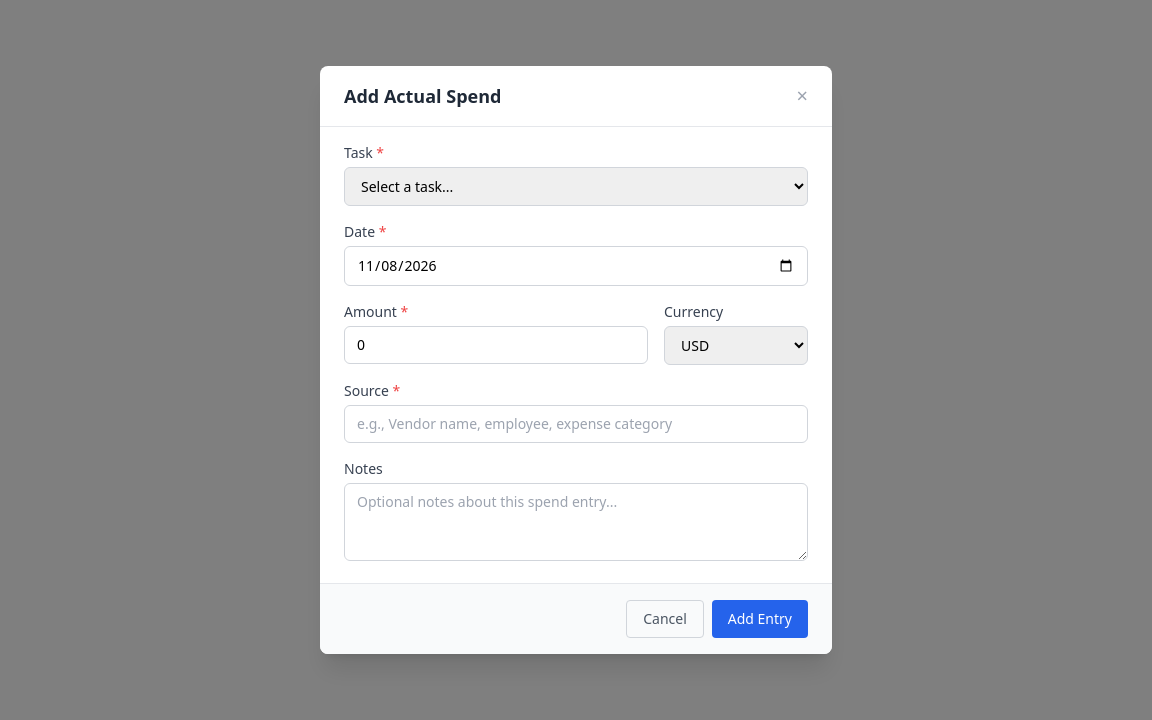
ActualsEditorModal › validation › shows error for empty source
Select "Design Phase" in the dropdown labelled "Task *" at (576, 186), box [344,167,808,206]
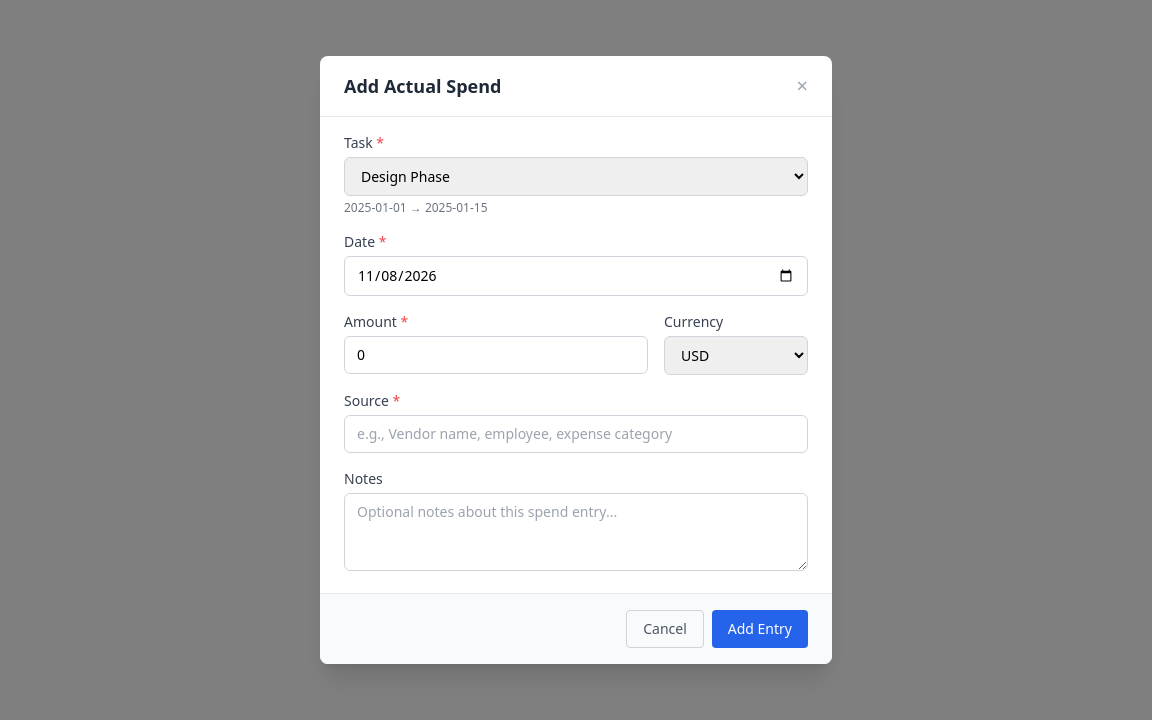
Type "2025-01-10" into the date field labelled "Date *" at (576, 276), box [344,256,808,296]
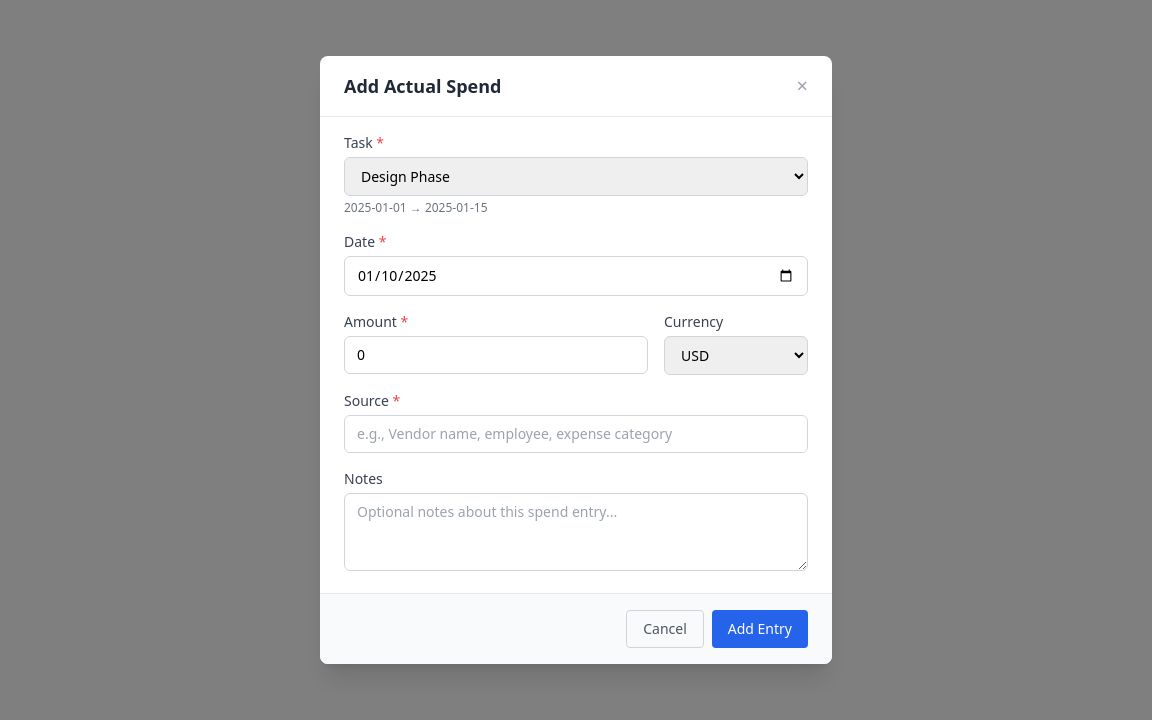
Replace the text in the number field with placeholder "0.00" with "100" at (496, 355), box [344,336,648,374]
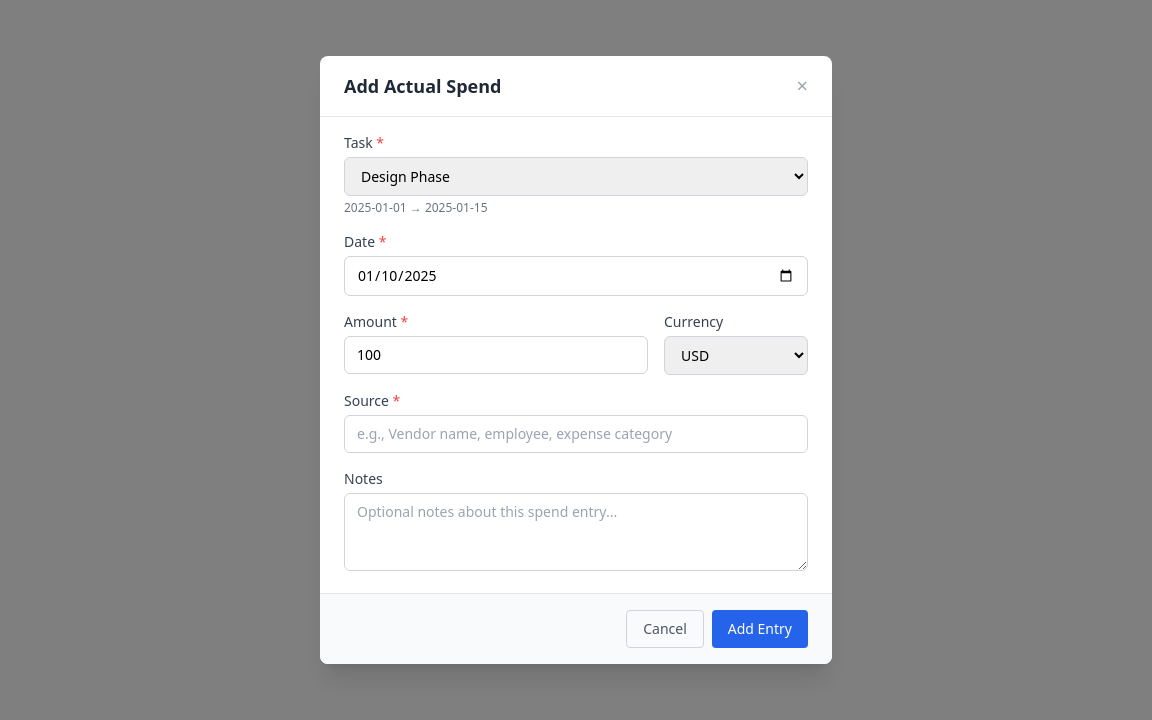
Click the button "Add Entry" at (760, 629), box [712,610,808,648]
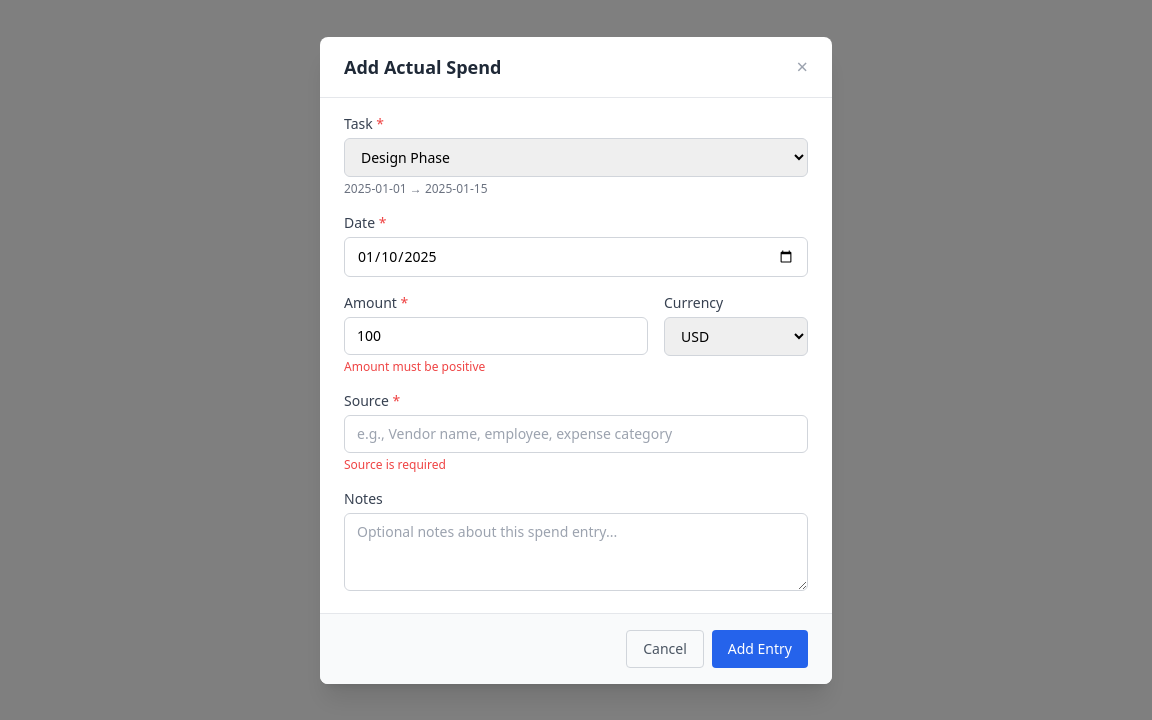
Now the text "Source is required" is shown, box [344,456,446,472]
